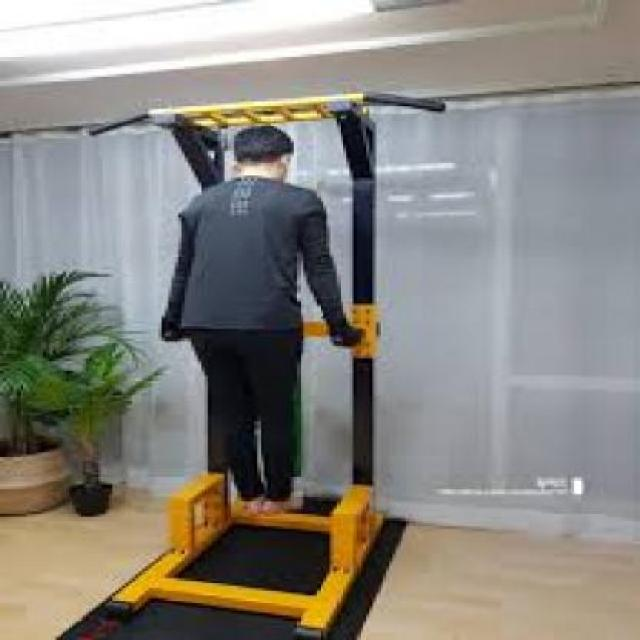chinning dipping: (91, 91, 446, 637)
